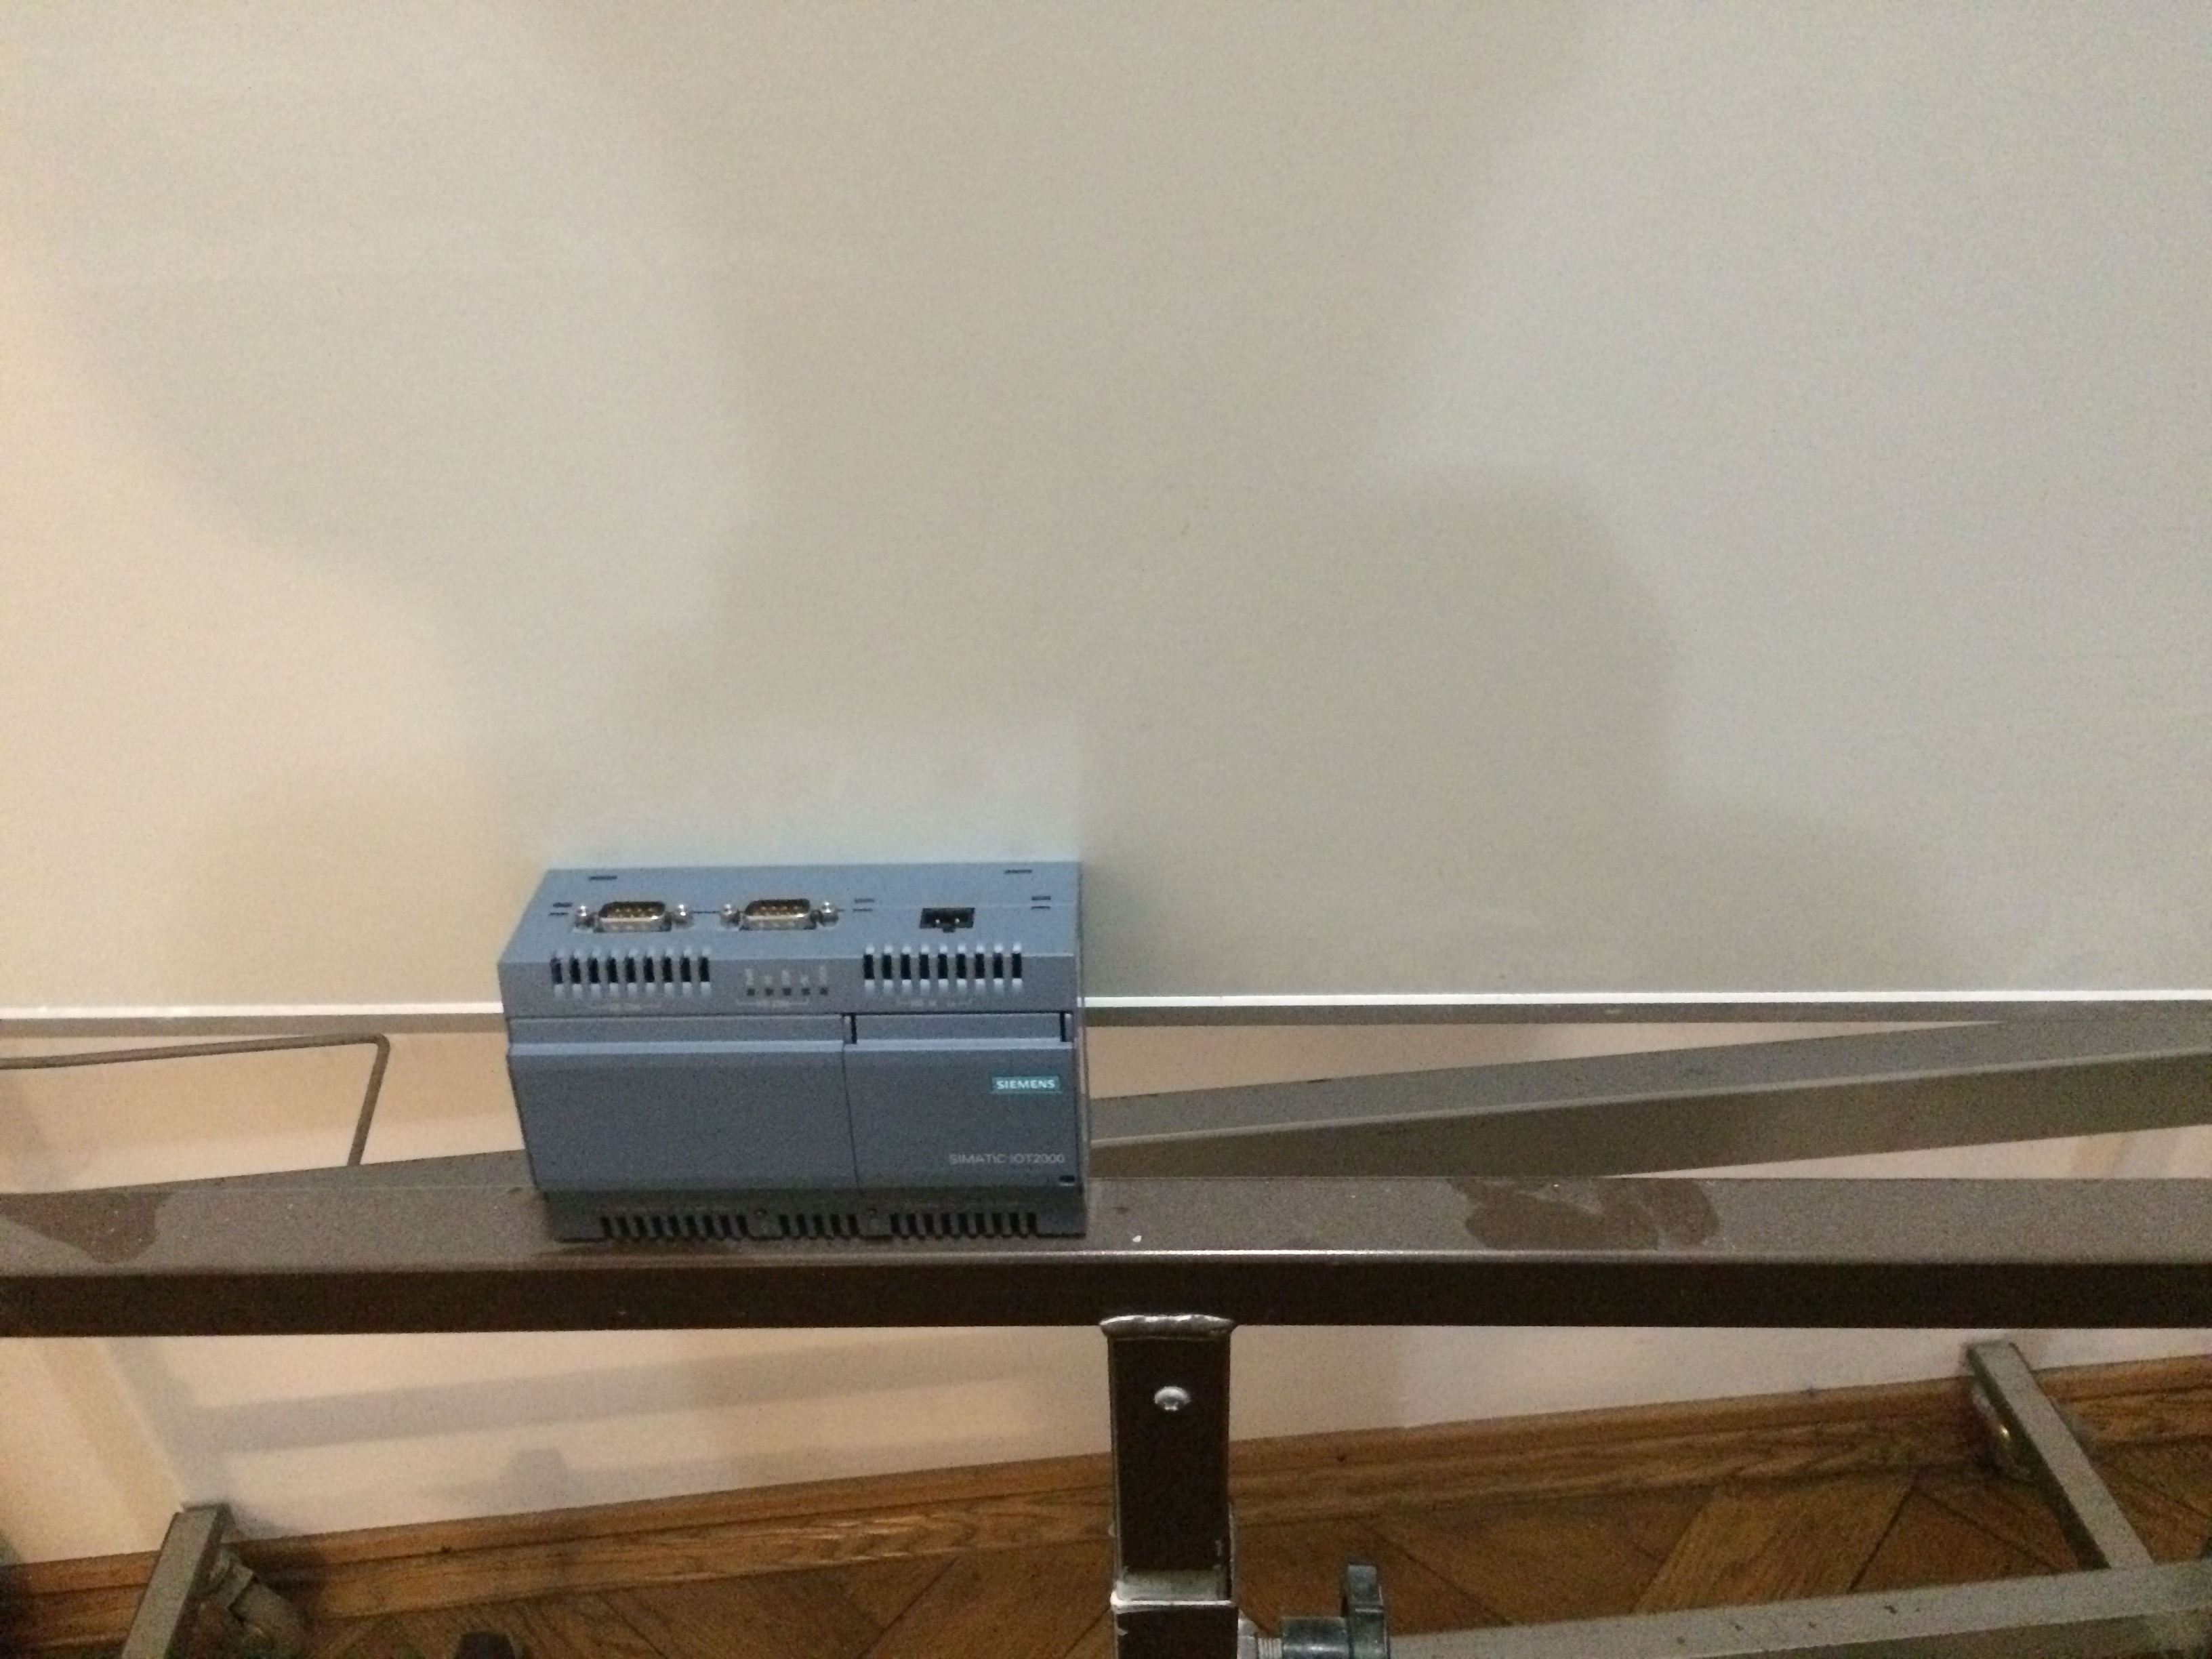iot2000: (493, 857, 1097, 1249)
